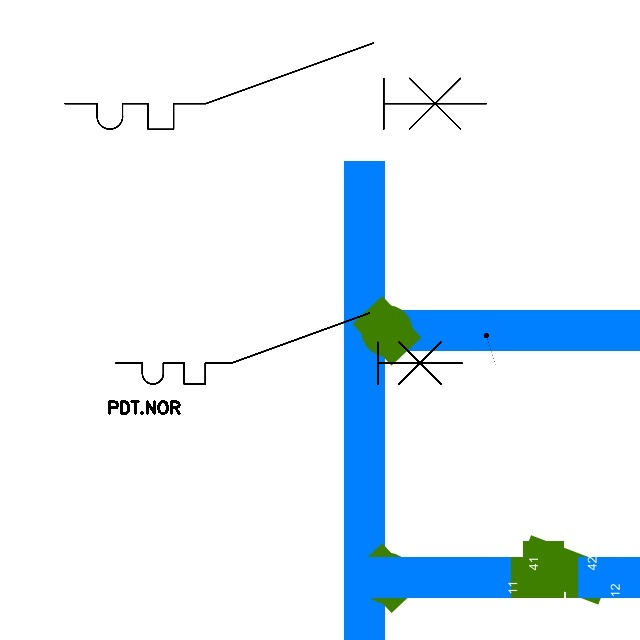interruptor_termomagnetico: (54, 32, 496, 140), (107, 304, 470, 393)
